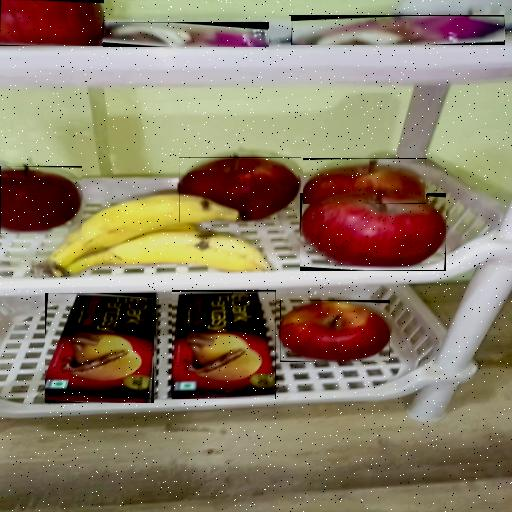Apple: (300, 193, 446, 271), (179, 157, 301, 222), (280, 300, 390, 362), (304, 158, 428, 204), (0, 166, 82, 234), (0, 0, 104, 46)
Choco Fills: (46, 293, 156, 403), (172, 290, 276, 399)
Choco Pie: (293, 16, 504, 45), (103, 22, 268, 47)
